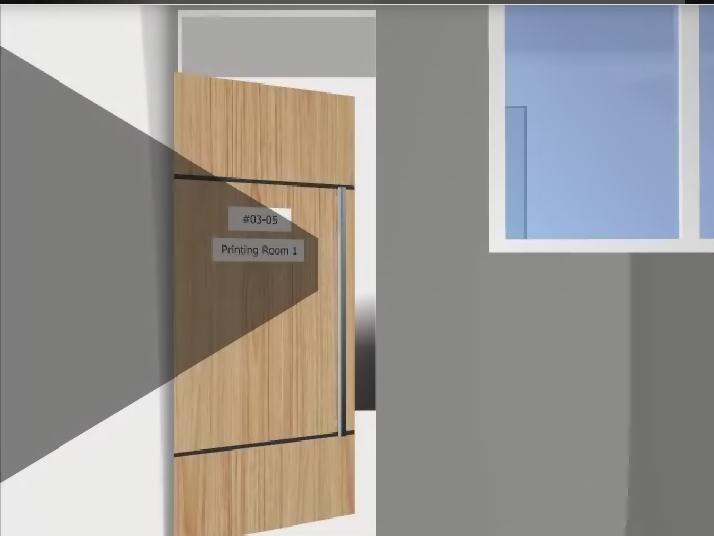door: (174, 74, 355, 536)
